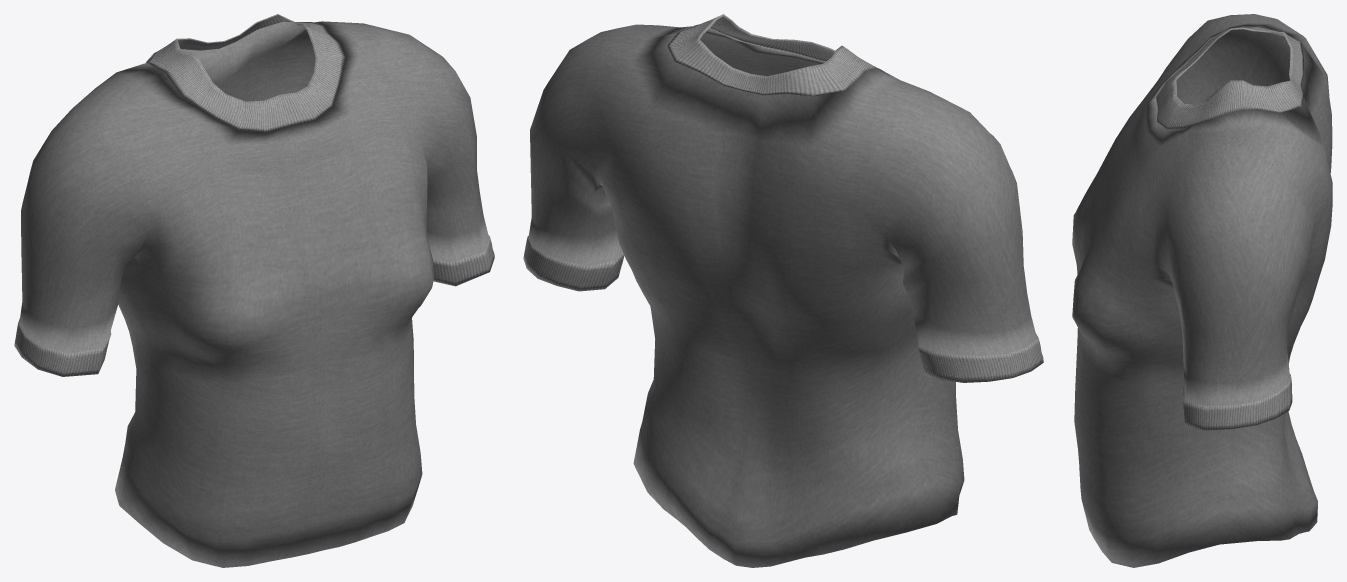
The model's file is top_tucked_tee.gltf.
3 renders of one model, left to right at view 1: azimuth 30°, elevation 25°; view 2: azimuth 150°, elevation 25°; view 3: azimuth 270°, elevation 25°, orthographic. The views are drawn at different scales.
Visible parts, largest first — view 1: top_tucked_tee; view 2: top_tucked_tee; view 3: top_tucked_tee.
Part boxes in pixels (bbox=[...]): top_tucked_tee: bbox=[14, 14, 494, 567]; top_tucked_tee: bbox=[523, 14, 1043, 567]; top_tucked_tee: bbox=[1072, 14, 1332, 567].
Bounding box in the file's own units: 0.4643 × 0.4471 × 0.225.
1 material, 1 textured.
